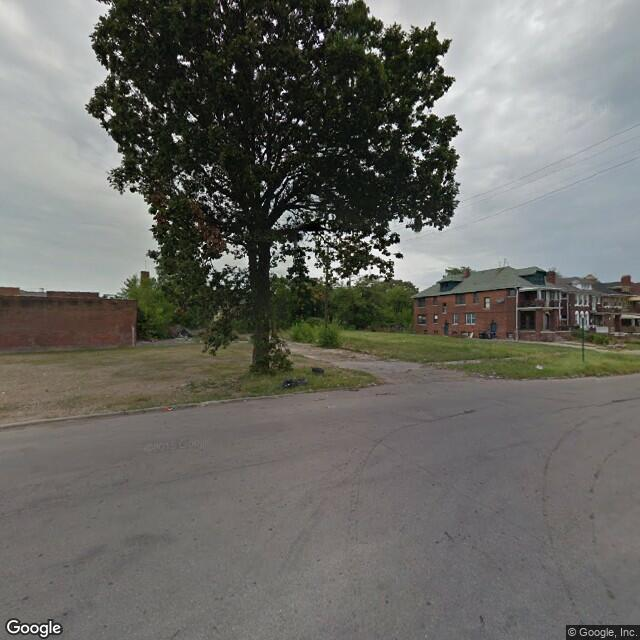litter: (533, 364, 545, 371), (162, 405, 178, 410), (283, 381, 290, 387), (367, 383, 377, 387)
